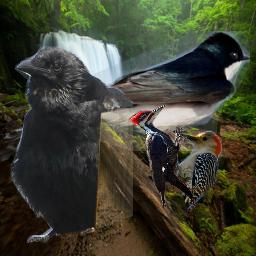Crow: (8, 45, 133, 243)
Swallow: (33, 31, 250, 151)
Woodpecker: (128, 104, 196, 210), (167, 127, 233, 217)
